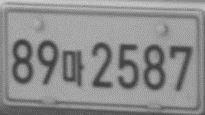2: (90, 41, 114, 90)
5: (116, 42, 140, 89)
7: (167, 44, 193, 92)
8: (11, 38, 34, 85), (142, 43, 165, 90)
9: (36, 40, 59, 86)
마: (61, 49, 85, 86)
